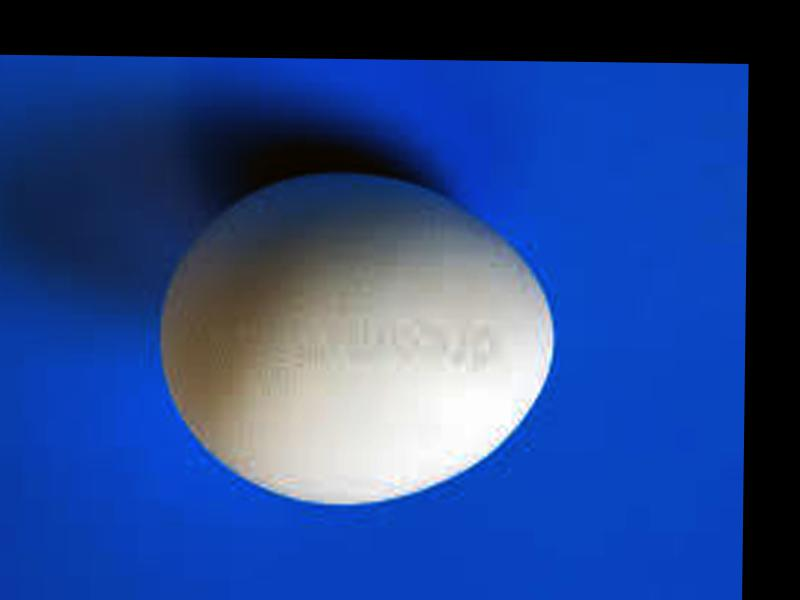Eggs: (155, 167, 560, 507)
